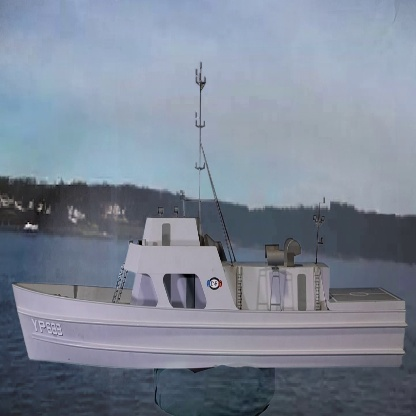YP689: (0, 43, 416, 373)
